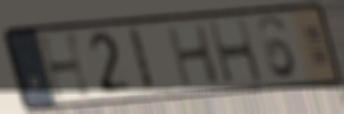2: (88, 29, 135, 95)
6: (257, 14, 299, 83)
H: (34, 29, 96, 102), (206, 15, 266, 88), (164, 21, 223, 90)
I: (126, 25, 158, 95)
